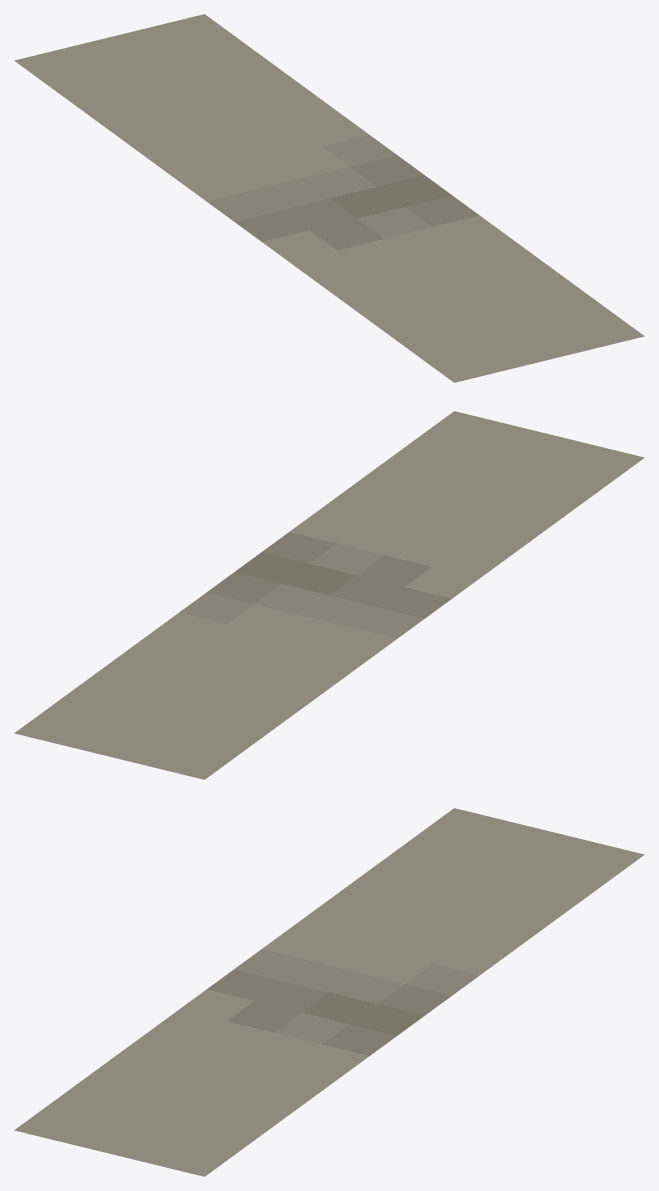
3 views of the same model, one above another, from view 1: azimuth 30°, elevation 25°; view 2: azimuth 150°, elevation 25°; view 3: azimuth 330°, elevation 25° (orthographic).
Bounding box in the file's own units: 0.25 × 0 × 1.
1 material, 1 textured.
